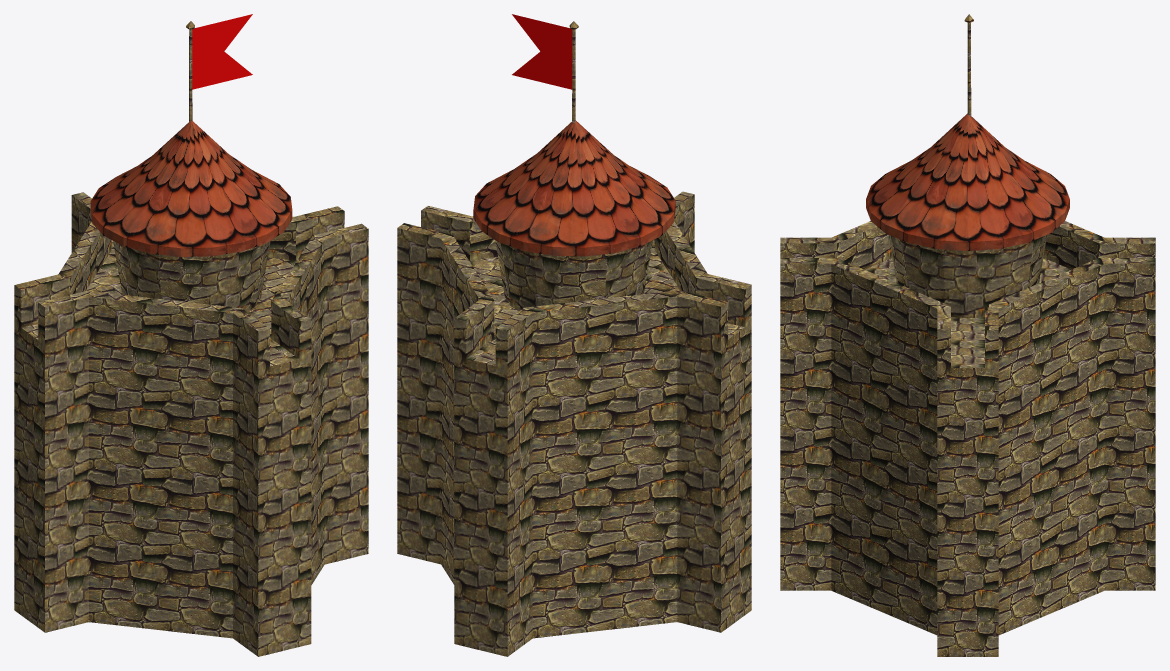
The model's file is Torre.FBX.
3 renders of one model, left to right at view 1: azimuth 30°, elevation 25°; view 2: azimuth 150°, elevation 25°; view 3: azimuth 270°, elevation 25°, orthographic.
Visible parts, largest first — view 1: Torre; view 2: Torre; view 3: Torre.
Part boxes in pixels (x1,y1,x2,y2): Torre: [14, 14, 368, 656]; Torre: [397, 14, 751, 656]; Torre: [780, 14, 1155, 656].
Bounding box in the file's own units: 1 × 1.66 × 1.
Materials: 3 (2 with a texture image).
